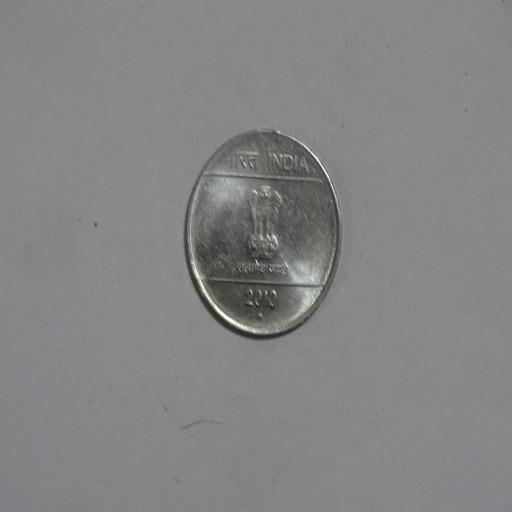rupee2: (182, 128, 342, 341)
